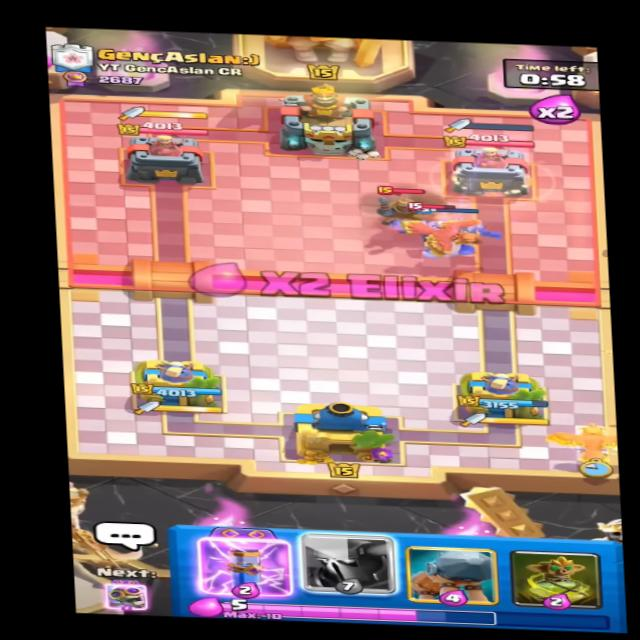phoenix: (379, 204, 506, 258)
prince: (364, 181, 440, 239)
